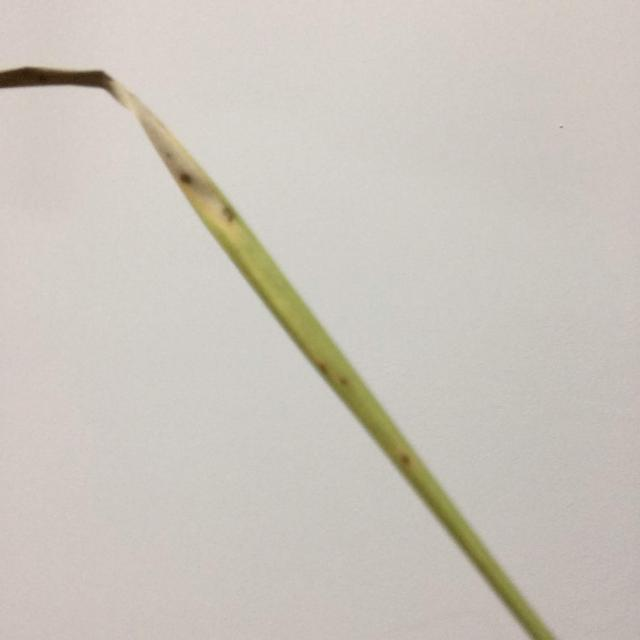brownspots: (316, 355, 362, 395), (214, 199, 242, 230), (178, 165, 198, 191), (396, 450, 418, 470)
